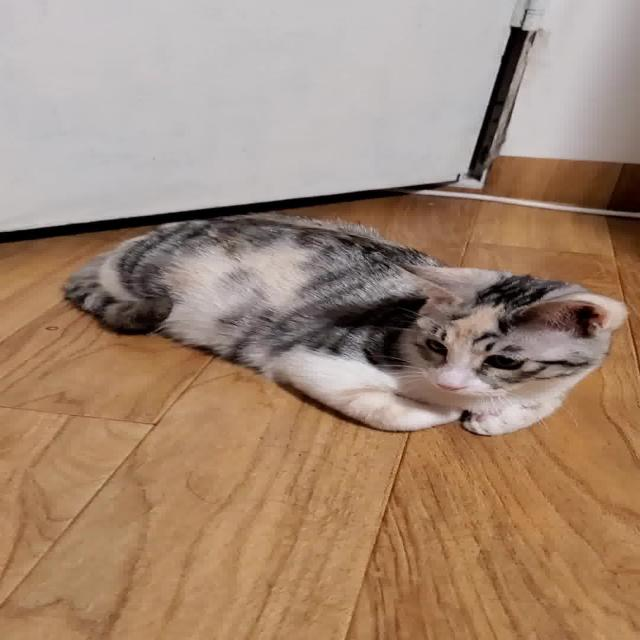cat: (35, 193, 640, 454)
